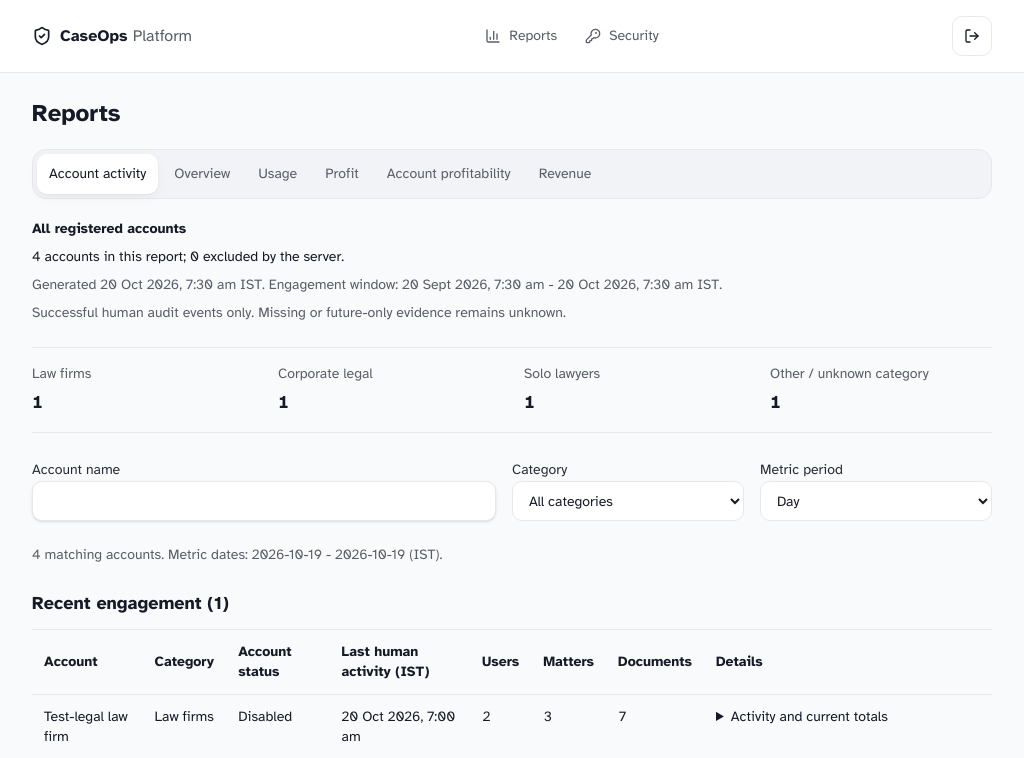
Test: all independent report views › separates positive configured run rates from absent paid-income rollups
The image size is (1024, 758).
Click the tab "Overview": click(202, 174) [162,154,242,194]
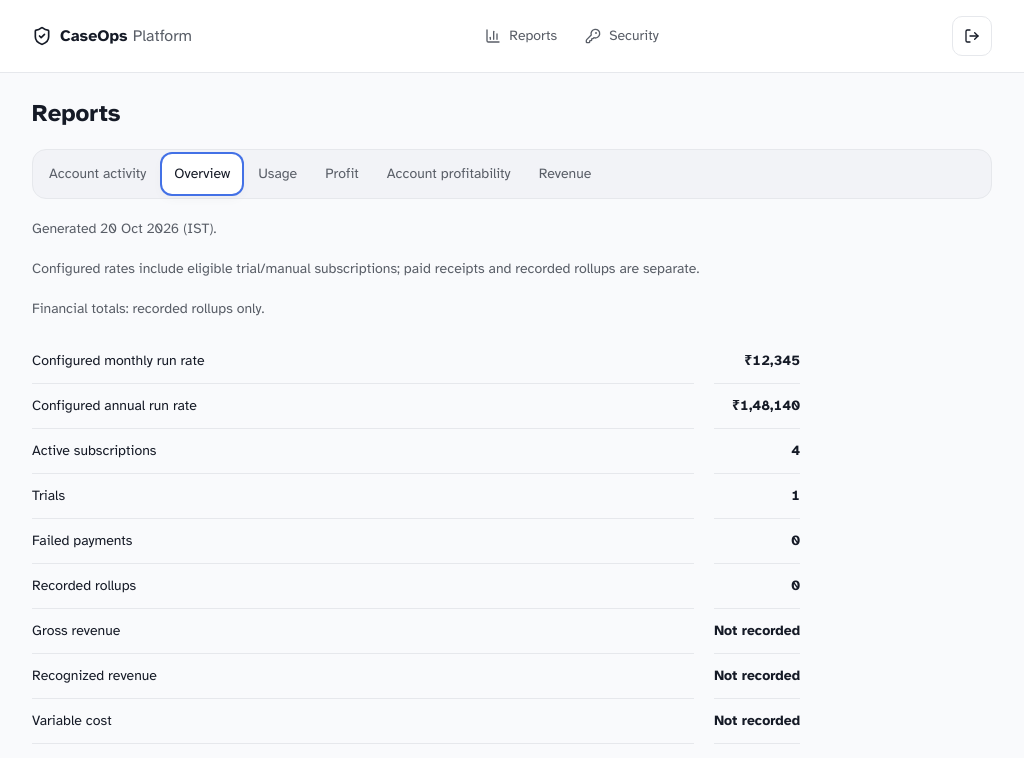
Expected: the text "Not recorded" in the row of "Gross revenue" is shown, [714,622,800,639]
Expected: the text "Configured rates include eligible trial/manual subscriptions; paid receipts and recorded rollups are separate." is shown, [32,260,699,277]
Expected: the text "Financial totals: recorded rollups only." is shown, [32,300,264,317]
